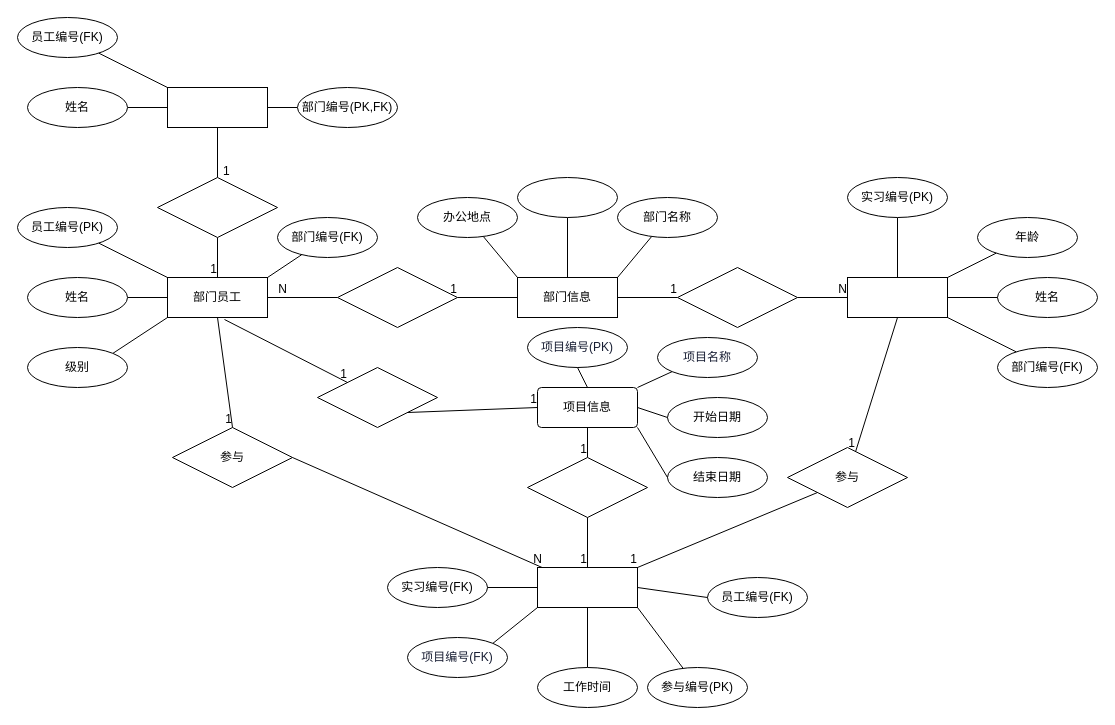
This 1115x725 diagram has some shape labels left out. Here are the shapes that lost their labels. From the top down, the centre of each, then its label:
At pixel 217 107: "部门经理".
At pixel 217 207: "管理".
At pixel 567 197: "部门编号(PK)".
At pixel 397 297: "工作".
At pixel 737 297: "实习".
At pixel 897 297: "实习生".
At pixel 377 397: "负责".
At pixel 587 487: "参与信息".
At pixel 587 587: "项目参与信息".
